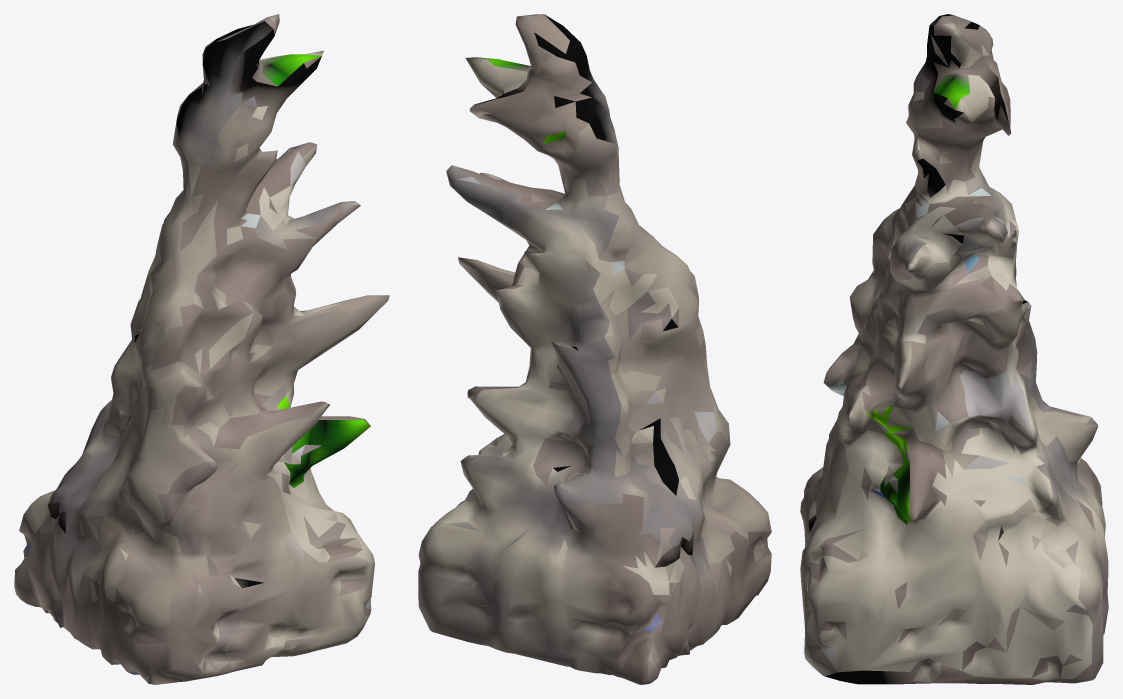
The model's file is Structure-8.fbx.
3 views of the same model, side by side, from view 1: azimuth 30°, elevation 25°; view 2: azimuth 150°, elevation 25°; view 3: azimuth 270°, elevation 25° (orthographic). The views are drawn at different scales.
Visible parts, largest first — view 1: Structure-8; view 2: Structure-8; view 3: Structure-8.
Boxes of the visible parts, bbox=[...] form: Structure-8: bbox=[14, 14, 389, 684]; Structure-8: bbox=[418, 14, 771, 684]; Structure-8: bbox=[800, 14, 1108, 684].
Size of the model in its own units: 1.52 by 2.93 by 1.28.
